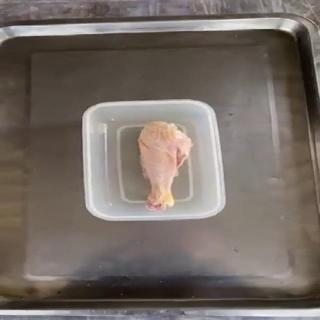Ayam: (136, 122, 194, 213)
